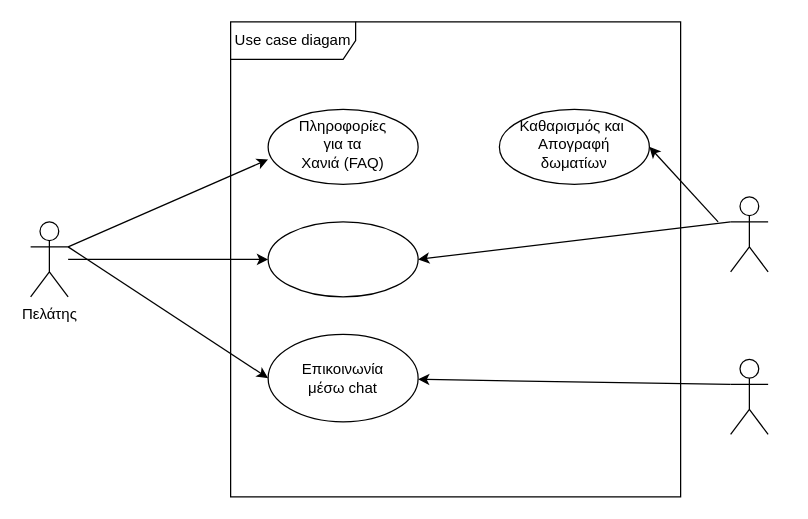
This 808x519 diagram has some shape labels left out. Each missing label, with the centre of its shape:
"Καμαριέρα" goes at point (748, 234).
"Υπάλληλος Υποδοχής" goes at point (748, 396).
"Υπηρεσίες Δωματίου" goes at point (342, 259).
